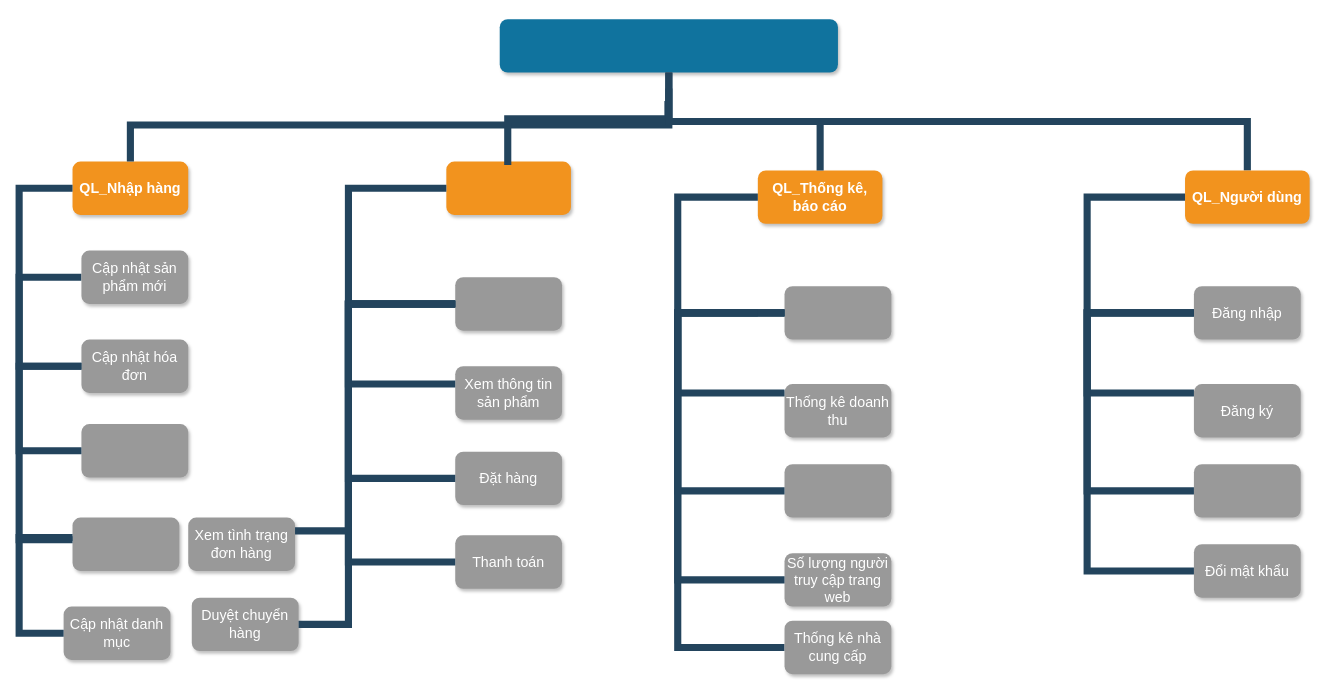
The diagram is 1330 pixels wide and 695 high, and some of its shapes have lost their labels. The shapes that lost their labels are listed below. From the top down, each one's centre as x and y in pixels, then its label:
pixel 669 46: QUẢN LÝ BÁN HÀNG MỸ PHẨM
pixel 509 189: QL_đơn hàng
pixel 509 304: Tìm kiếm sản phẩm
pixel 838 313: Thống kê số lượng sản phẩm
pixel 135 451: Cập nhật số lượng
pixel 838 491: Thống kê đơn đặt hàng
pixel 1248 491: Cập nhật thông tin người dùng
pixel 126 545: Cập nhật nhà cung cấp
